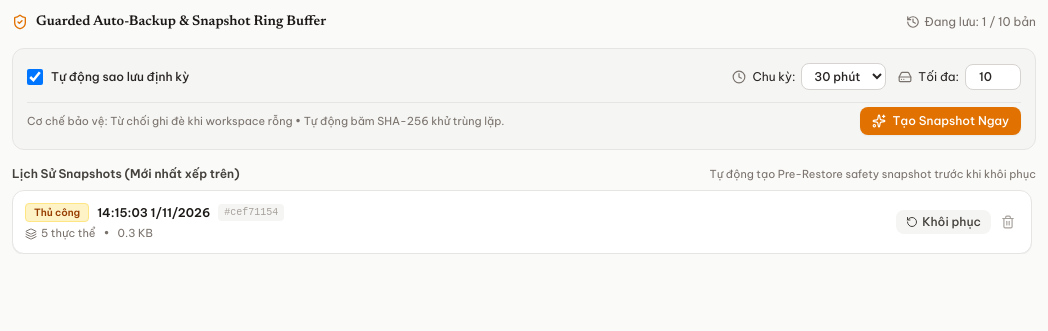
Test: Phase 6B: Guarded Auto-Backup UI Integration & Control Panel › displays Zero-Data Overwrite Guard warning when trying to backup empty workspace
Click the button with test id "trigger-manual-snapshot-btn": (941, 121) [860, 107, 1021, 135]
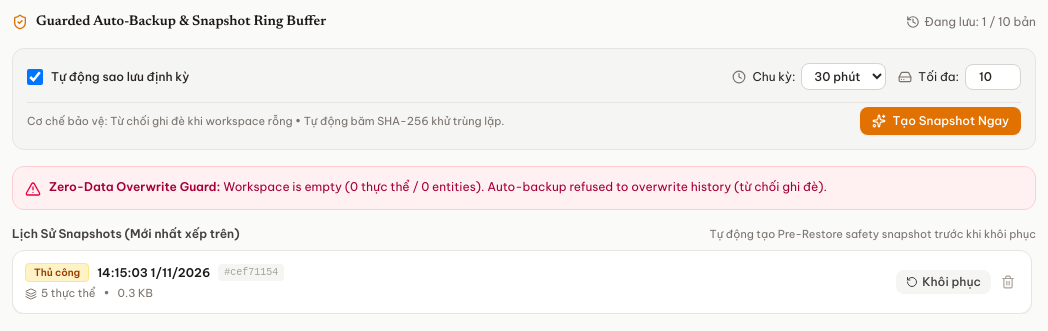
Expected: the element with test id "auto-backup-guard-feedback" is shown, [12, 166, 1036, 210]
